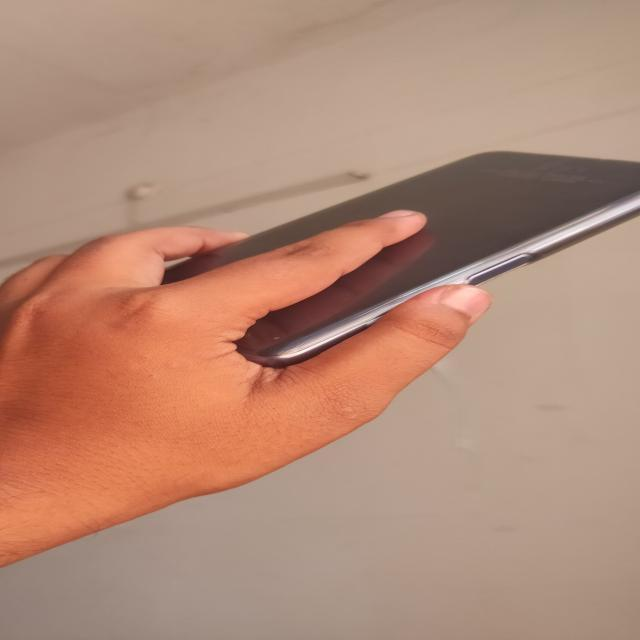Phone: (164, 151, 640, 364)
